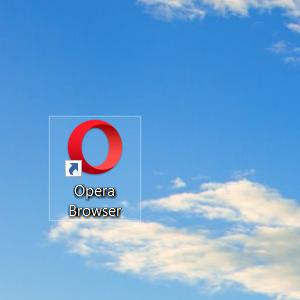opera: (64, 120, 123, 177)
